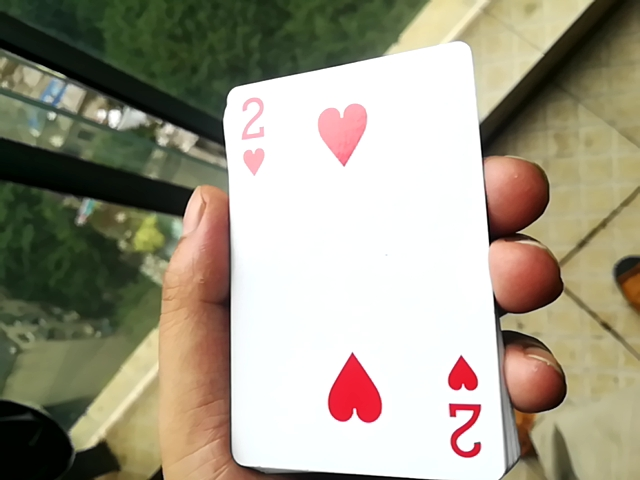hx 2: (225, 28, 501, 480)
